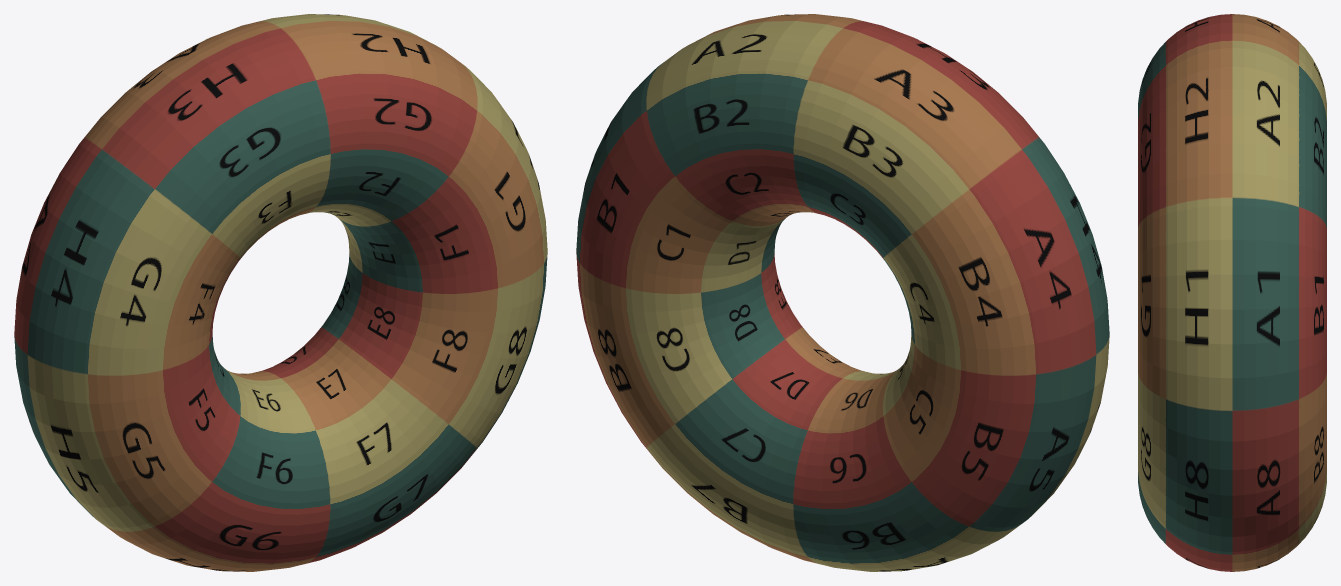
File: texture_torus_R1_r13.glb
3 renders of one model, left to right at view 1: azimuth 30°, elevation 25°; view 2: azimuth 150°, elevation 25°; view 3: azimuth 270°, elevation 25°, orthographic. The views are drawn at different scales.
Parts seen in each view (by area): view 1: world; view 2: world; view 3: world.
Part boxes in pixels (x1,y1,x2,y2): world: [14, 14, 547, 571]; world: [576, 14, 1109, 571]; world: [1138, 14, 1326, 571].
Size of the model in its own units: 16.13 by 16.1 by 5.46.
1 material, 1 textured.
